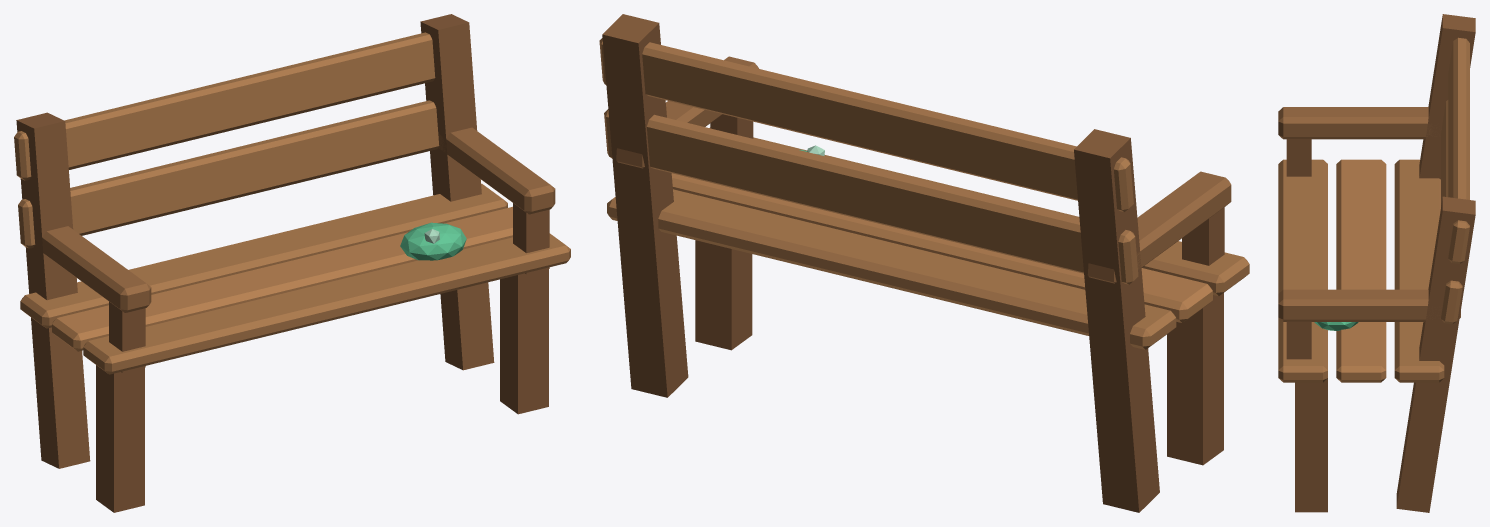
The model's file is ranch_bench.fbx.
The picture shows the model from 3 angles, left to right: view 1: azimuth 30°, elevation 25°; view 2: azimuth 150°, elevation 25°; view 3: azimuth 270°, elevation 25°; orthographic projection. The views are drawn at different scales.
Parts seen in each view (by area): view 1: ranch_bench; view 2: ranch_bench; view 3: ranch_bench.
Boxes of the visible parts, x1,y1,x2,y2 form: ranch_bench: [14, 14, 570, 512]; ranch_bench: [599, 14, 1249, 512]; ranch_bench: [1278, 14, 1475, 512].
Bounding box in the file's own units: 6 × 4.02 × 2.38.
